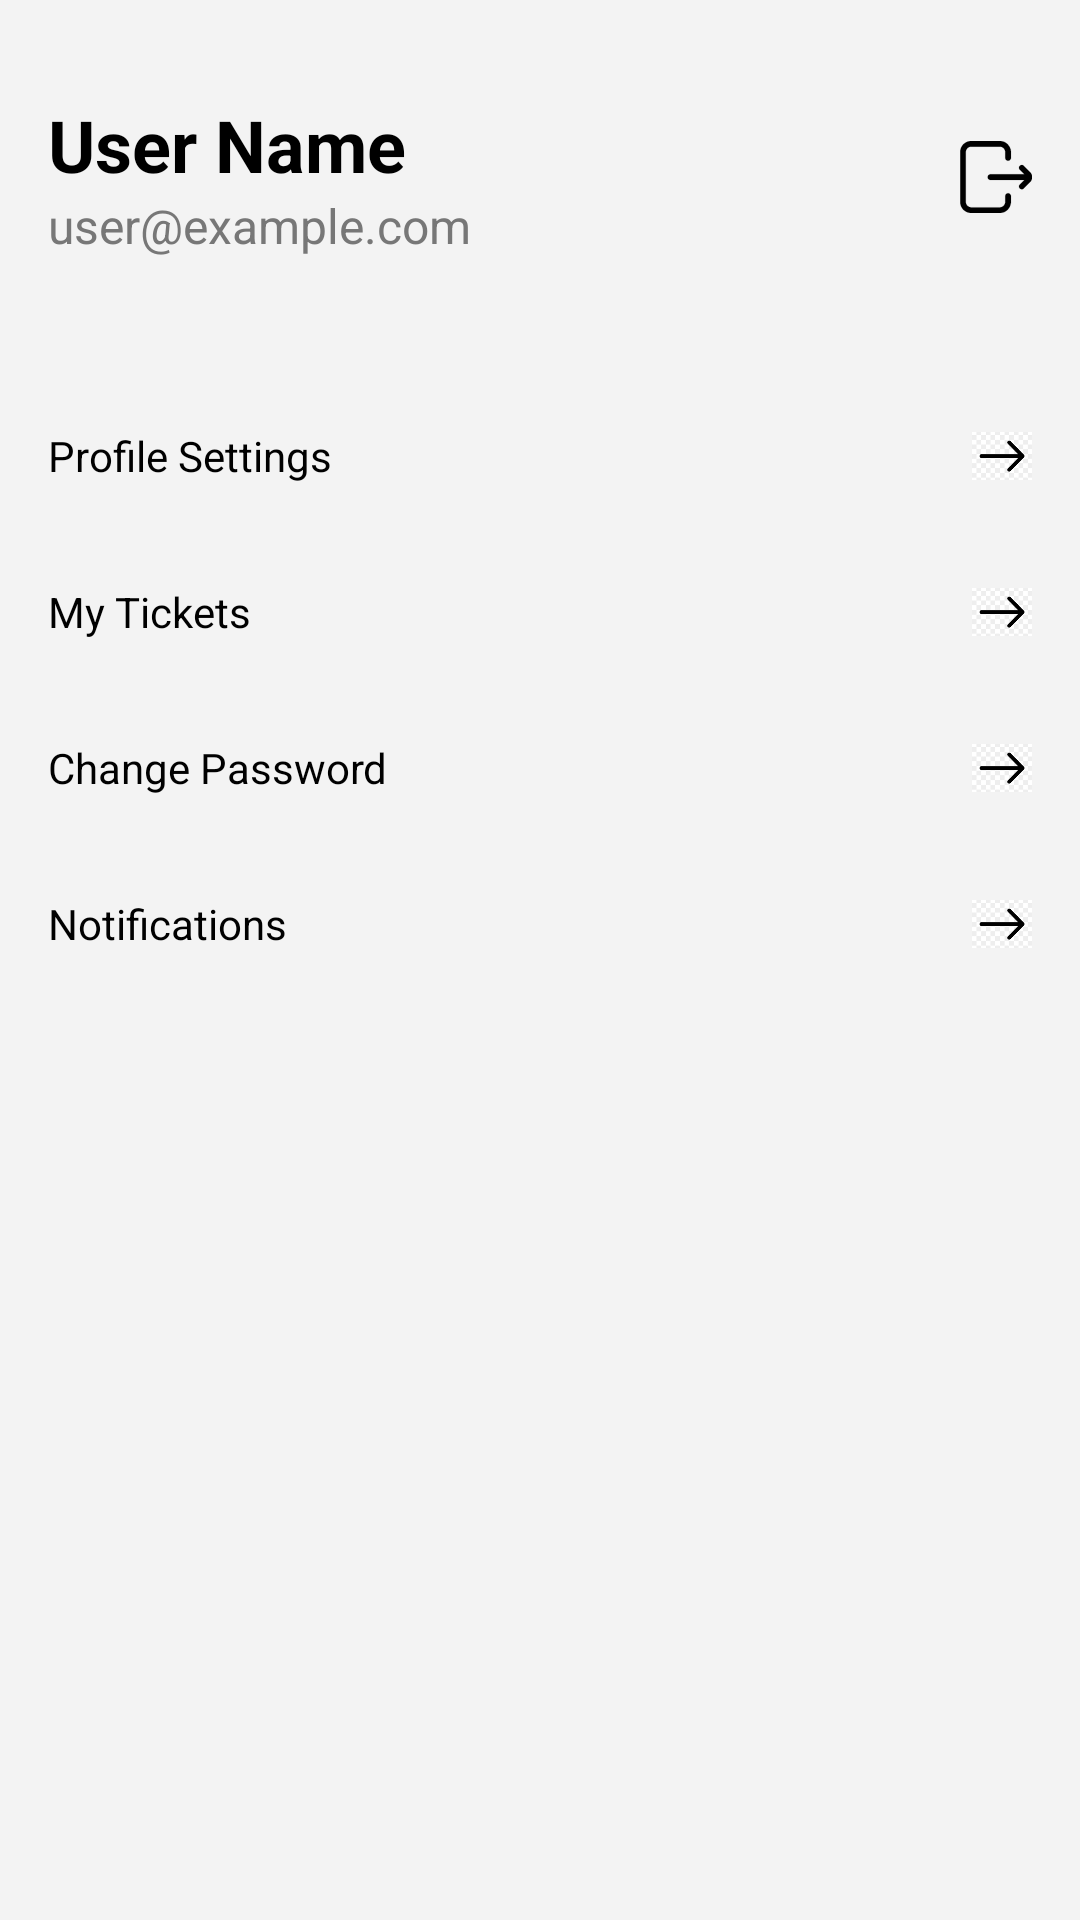

Point at icon controls on the screen. Image size 1080 x 1920, points as (x=x, y=y).
Go to Details: (x=1002, y=456), (x=1002, y=612), (x=1002, y=768), (x=1002, y=924)
